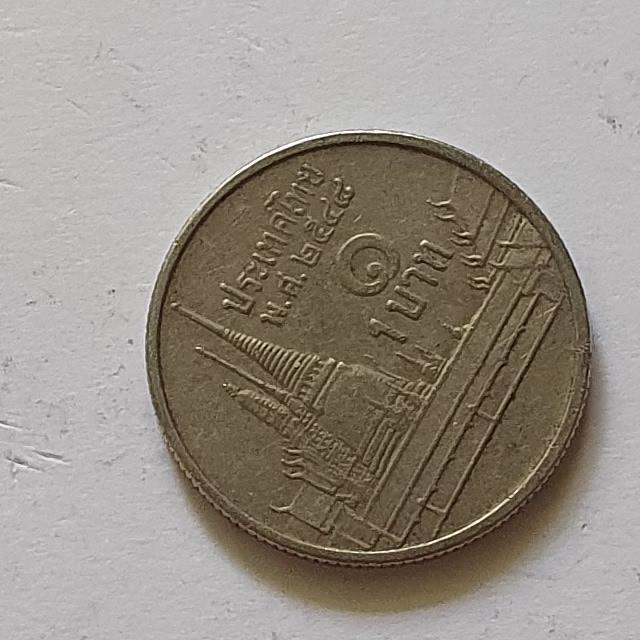1 Bath: (141, 123, 603, 577)
